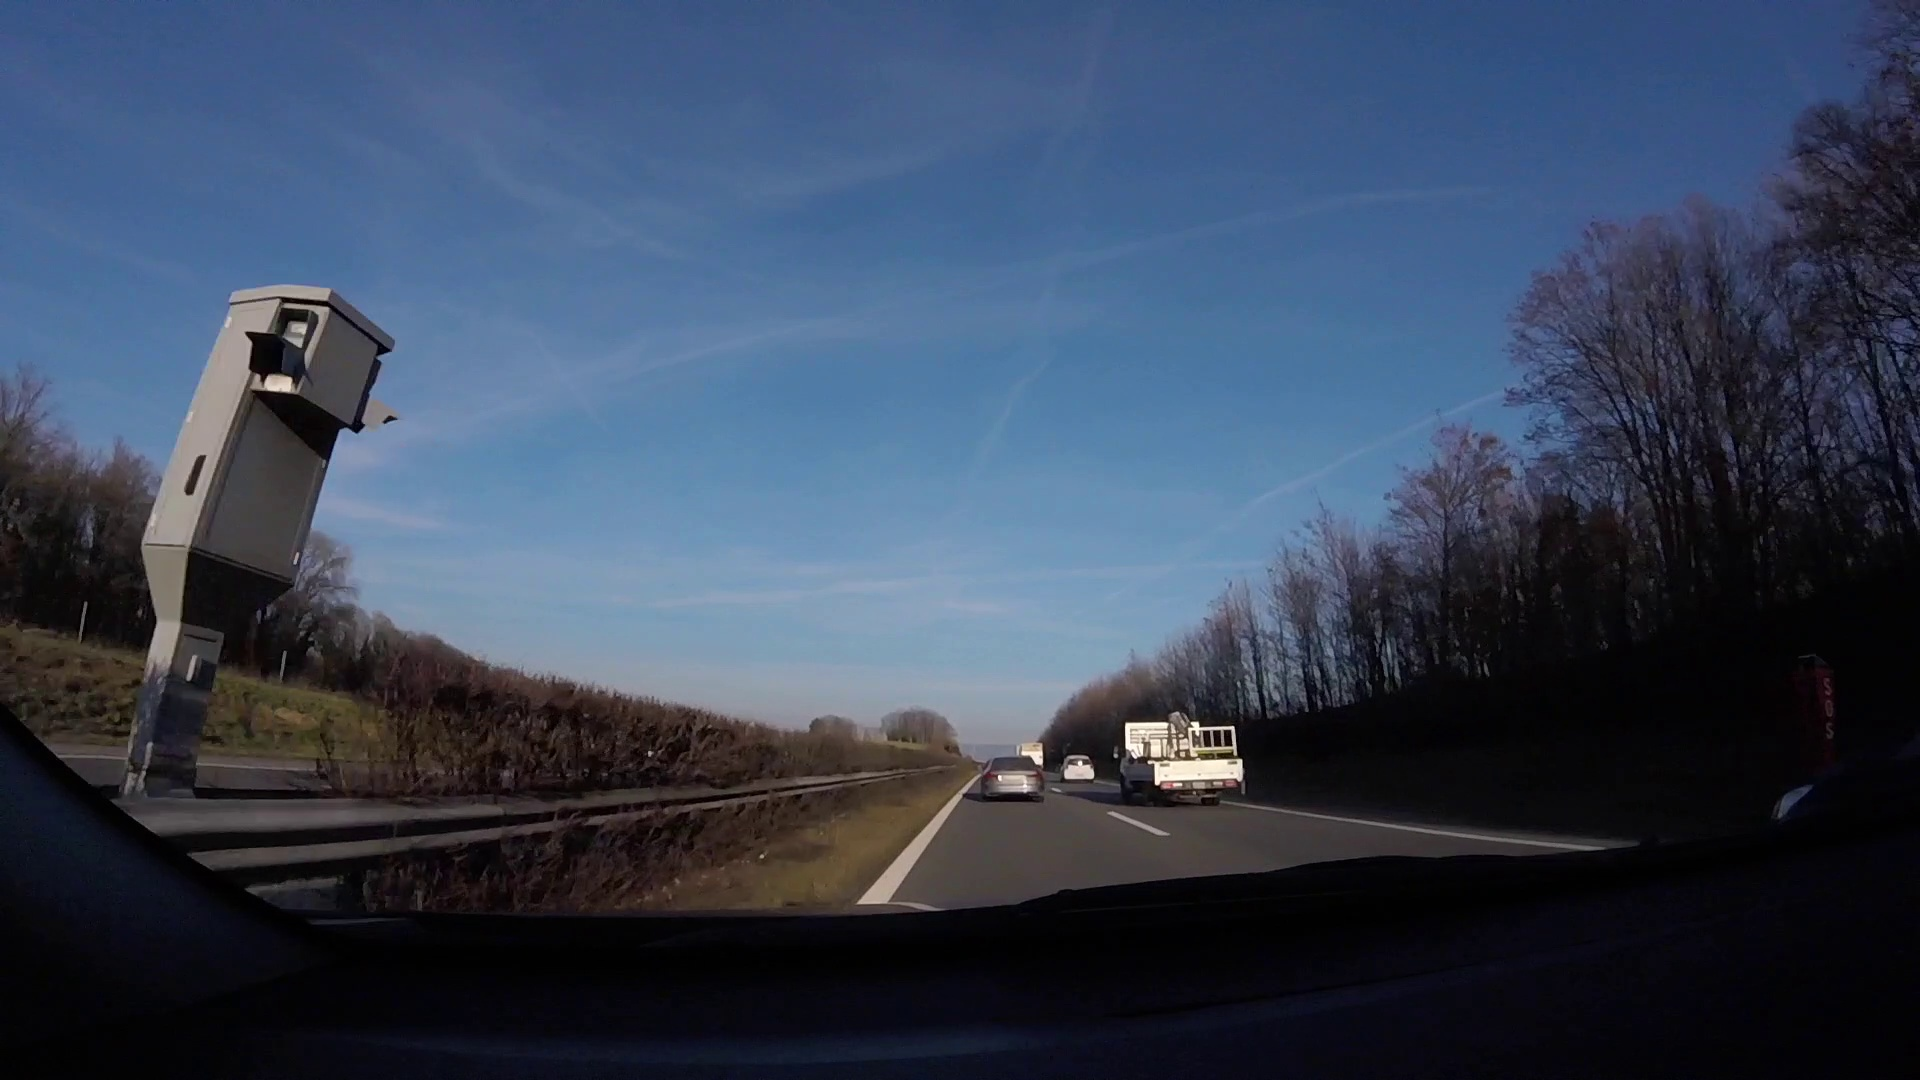radar: (133, 282, 392, 717)
